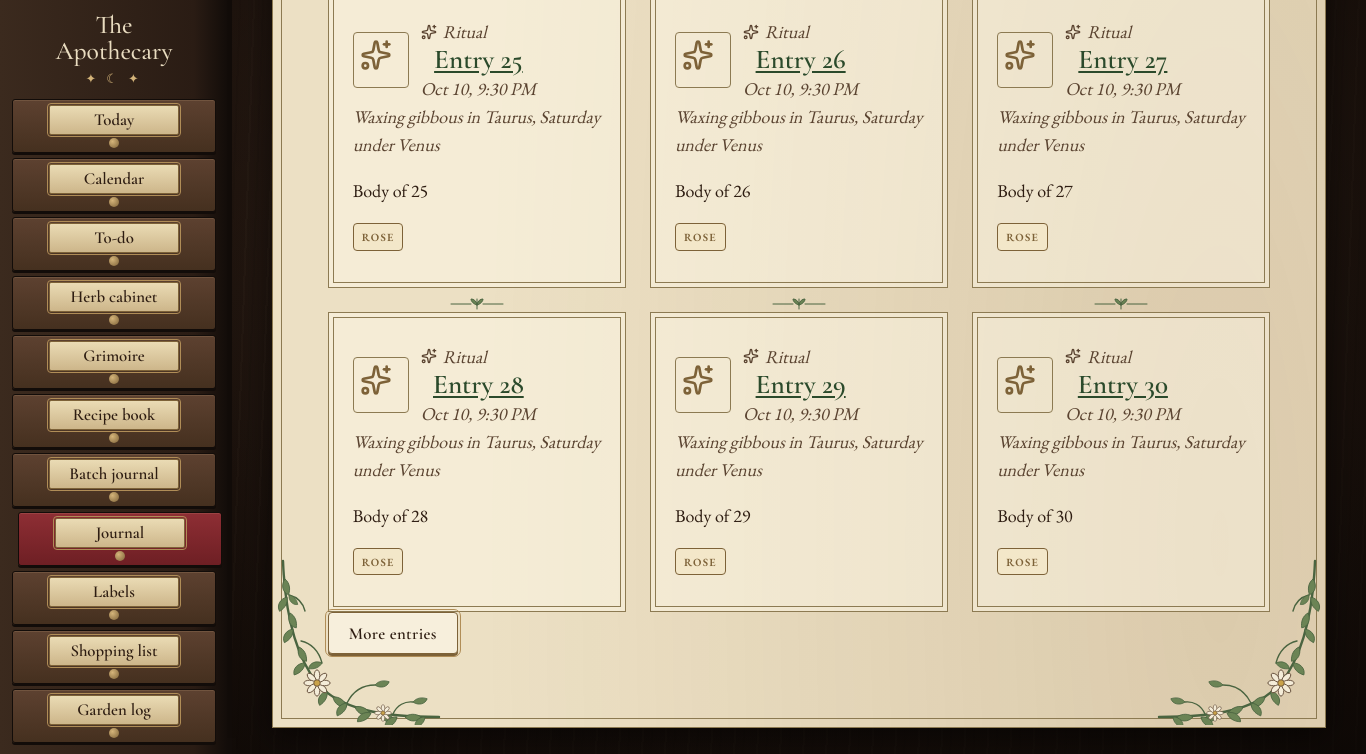
loads the next page with More entries and hides the button at the end
The image size is (1366, 754).
(page scrolled)
Click the button "More entries" at {"x": 393, "y": 634}, box [328,612,458,654]
(page scrolled)
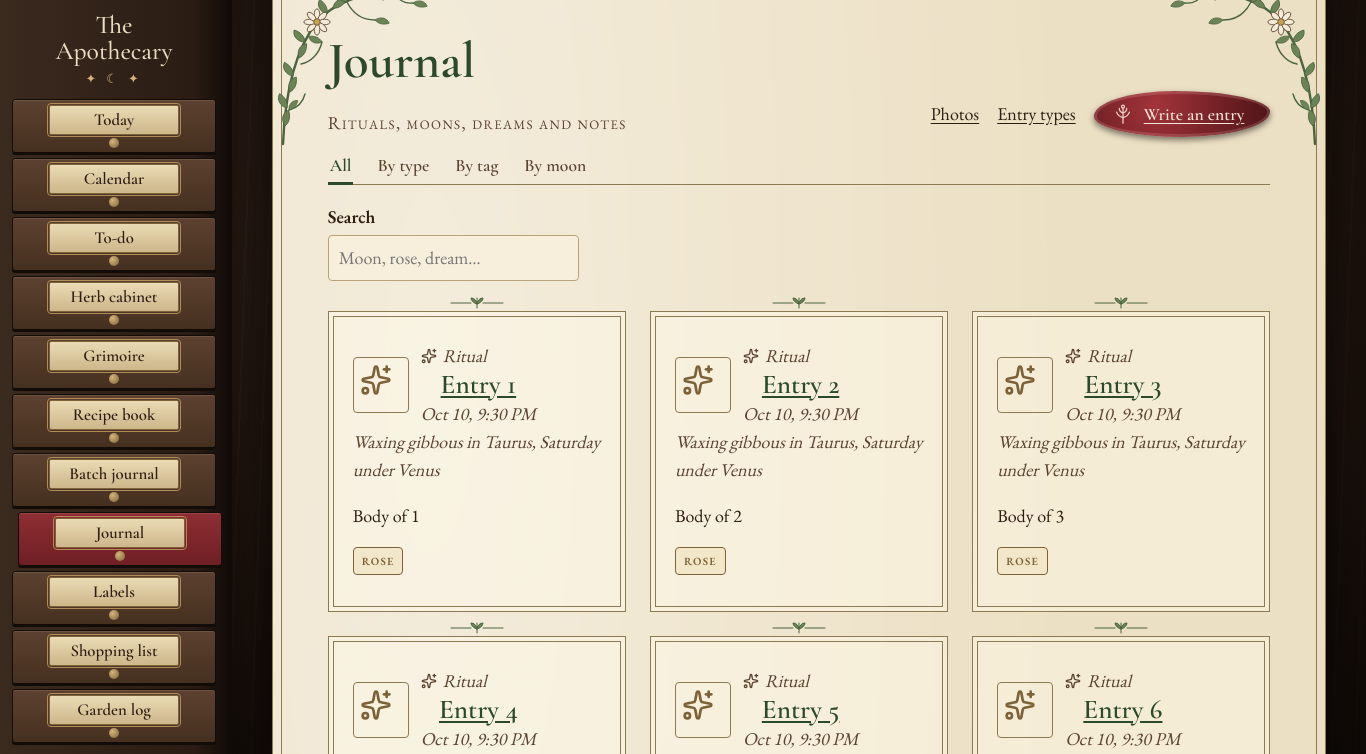
Check: the link "Entry 1" is shown, box [441,368,516,401]
Check: the button "More entries" is gone
